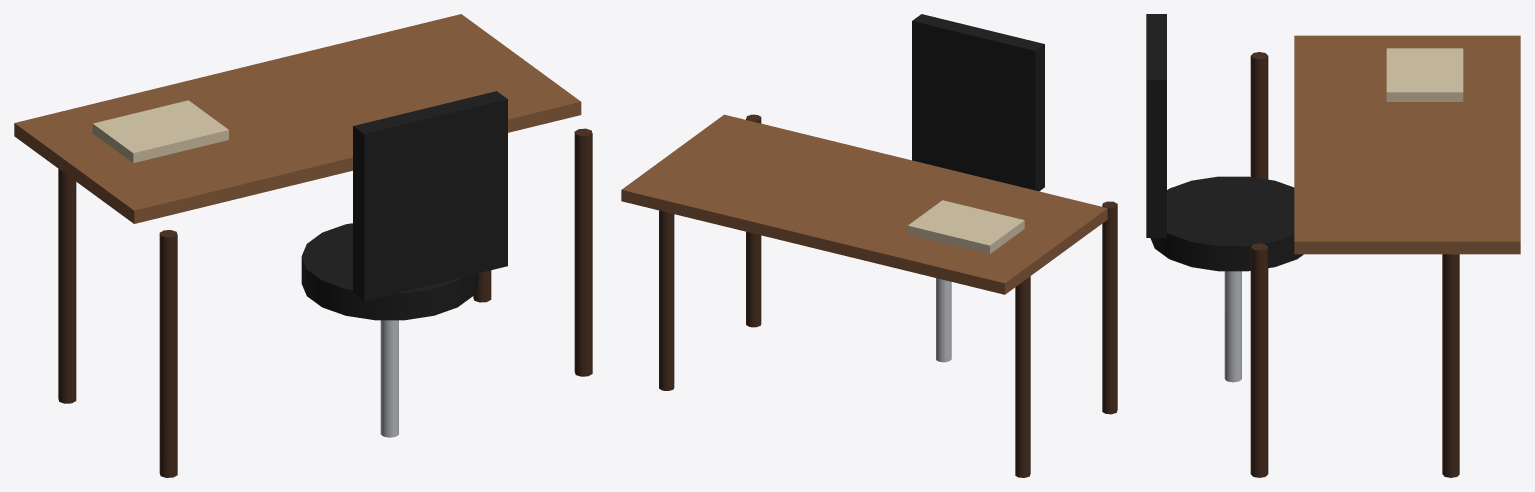
The model's file is desk.glb.
3 views of the same model, side by side, from view 1: azimuth 30°, elevation 25°; view 2: azimuth 150°, elevation 25°; view 3: azimuth 270°, elevation 25° (orthographic). The views are drawn at different scales.
Visible parts, largest first — view 1: desk; view 2: desk; view 3: desk.
Boxes of the visible parts, x1,y1,x2,y2 form: desk: [14, 14, 592, 477]; desk: [621, 14, 1117, 477]; desk: [1146, 14, 1520, 477].
Size of the model in its own units: 1.4 by 1.05 by 1.07.
